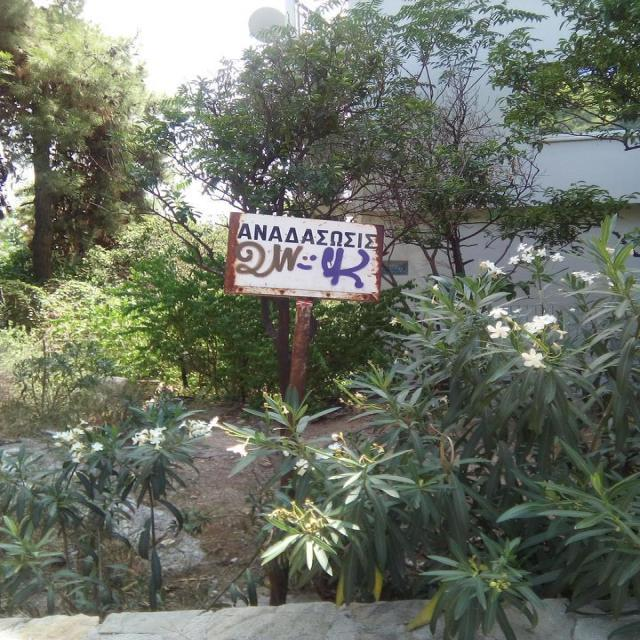nonspitting: (234, 240, 316, 278), (324, 247, 372, 288)
